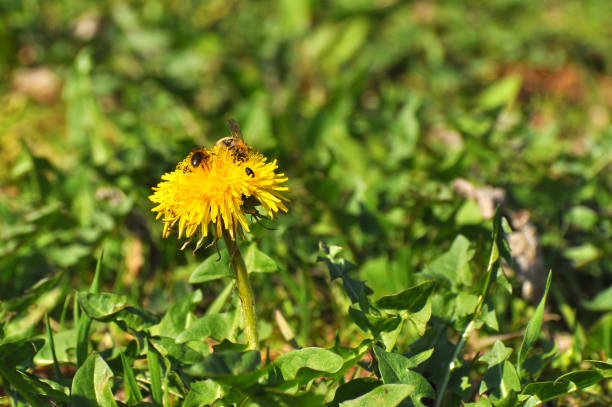dandelion: (154, 147, 286, 242)
